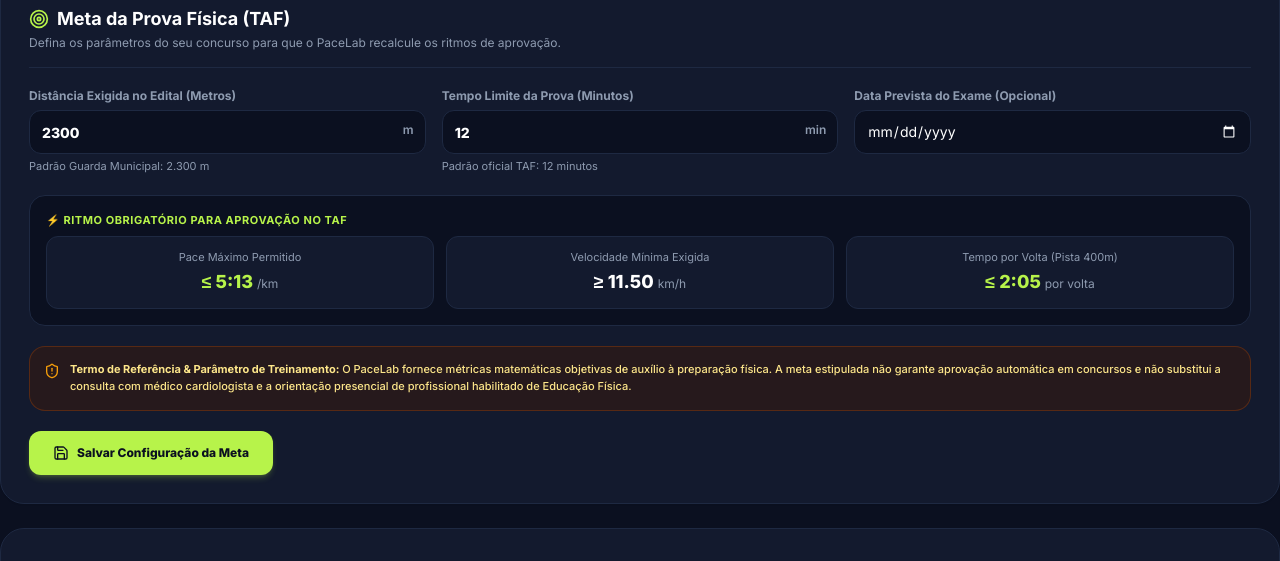
it: Fase 6 — Frontend & UX: Sincronização Google Sheets › 6. Utilitários lib/sheetsSyncUi › atualiza pendências em GoalAndBackupSettings quando trainings/attempts mudam e após salvar meta
Salvar meta da prova física recarrega status de pendências
Click the button "Salvar Configuração da Meta". click: coordinates (151, 453)
box: [29,431,273,475]
(page scrolled)
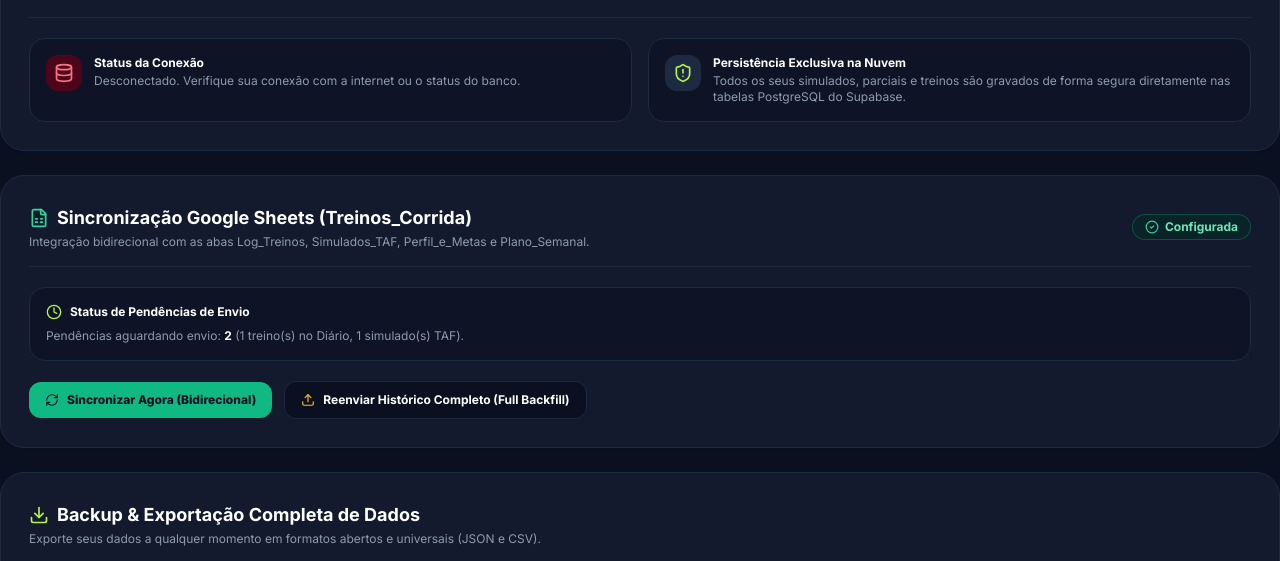
Check: the element with test id "sheets-pending-summary" shows "Pendências aguardando envio: 2", box [46,328,464,343]
